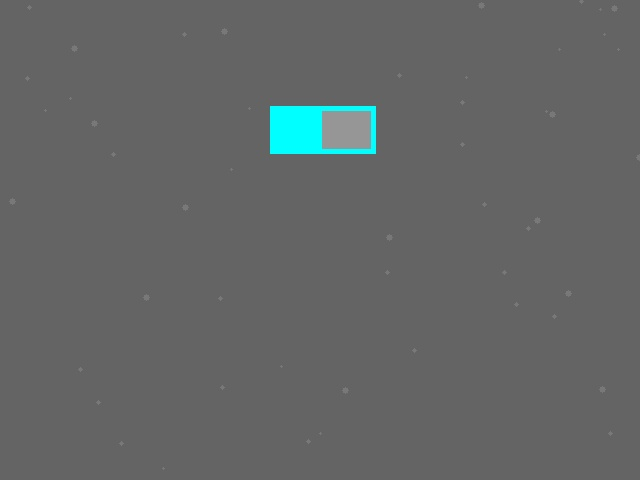truck: (270, 106, 375, 153)
